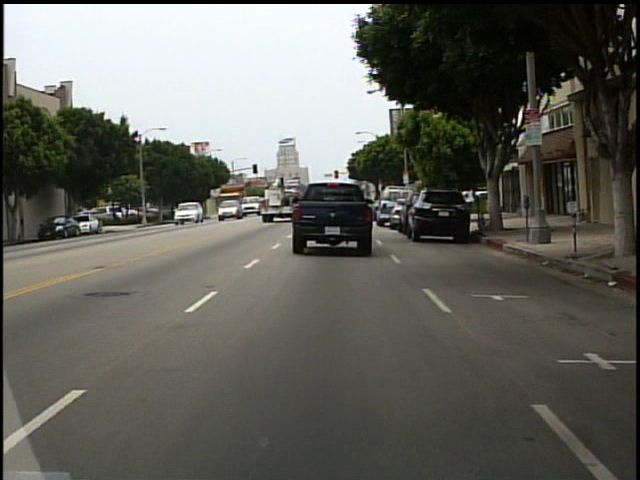person: (462, 186, 476, 205)
